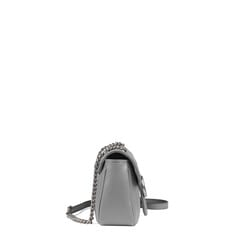Gucci: (72, 131, 154, 233)
